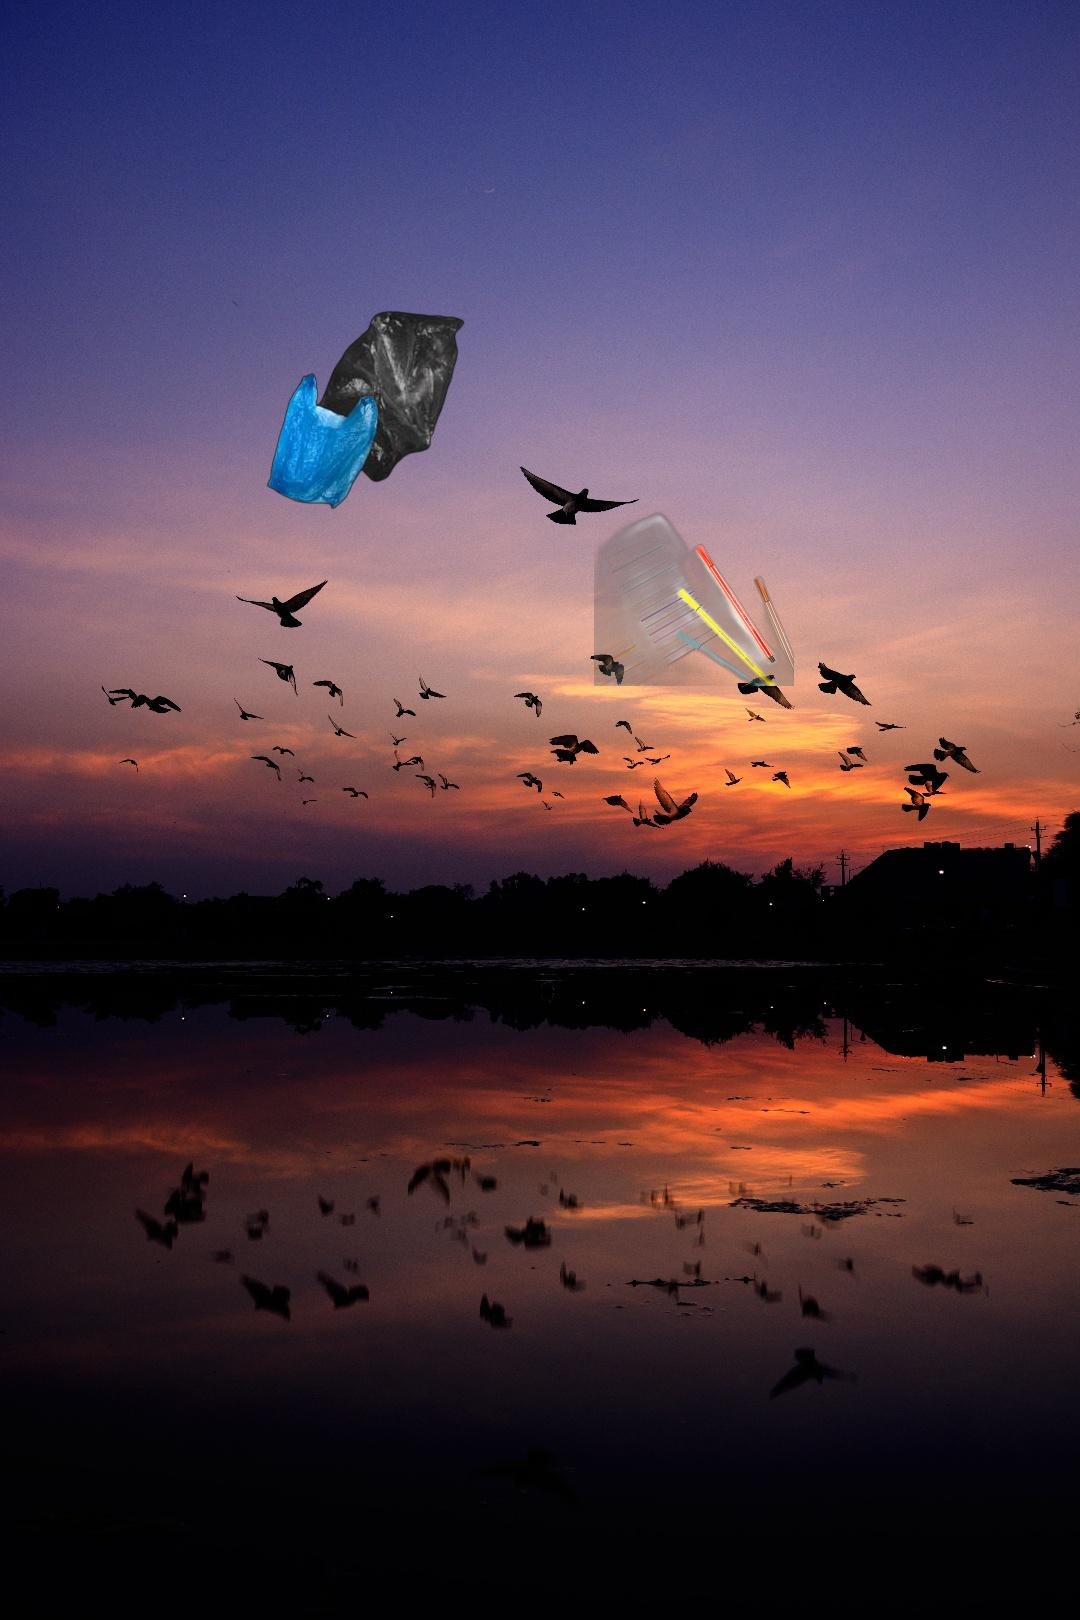penholder: (594, 486, 794, 686)
plastic-bag: (264, 310, 466, 511)
